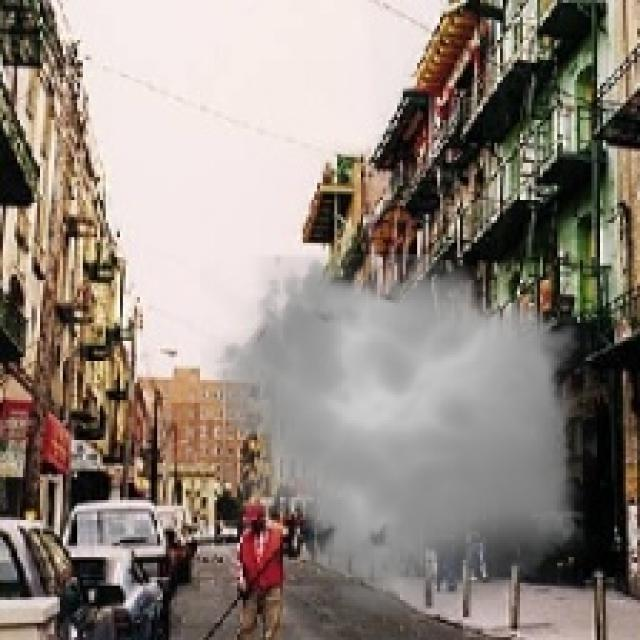smoke: (200, 237, 597, 632)
